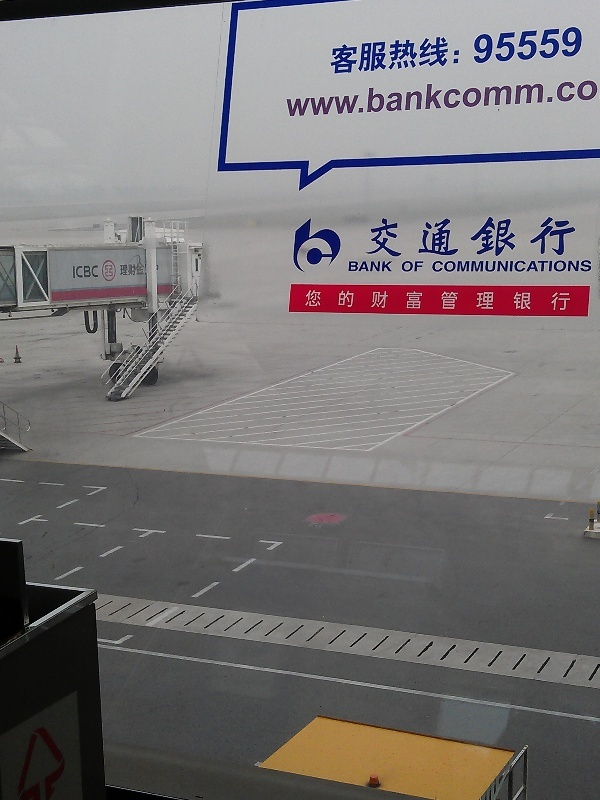text: (337, 25, 352, 76), (353, 25, 368, 76), (369, 25, 384, 76), (385, 25, 400, 76), (401, 25, 416, 76), (417, 25, 432, 76), (433, 25, 448, 76), (449, 25, 464, 76), (465, 25, 480, 76), (481, 25, 496, 76), (497, 25, 512, 76), (513, 25, 528, 76), (529, 25, 544, 76), (545, 25, 560, 76), (561, 25, 576, 76), (289, 72, 304, 119), (305, 72, 320, 119), (321, 72, 336, 119), (337, 72, 352, 119), (353, 72, 368, 119), (369, 72, 384, 119), (385, 72, 400, 119), (401, 72, 416, 119), (417, 72, 432, 119), (433, 72, 448, 119), (449, 72, 464, 119), (465, 72, 480, 119), (481, 72, 496, 119), (497, 72, 512, 119), (513, 72, 528, 119), (529, 72, 544, 119), (545, 72, 560, 119), (561, 72, 576, 119), (577, 72, 592, 119), (369, 217, 384, 257), (385, 217, 400, 257), (401, 217, 416, 257), (417, 217, 432, 257), (433, 217, 448, 257), (449, 217, 464, 257), (465, 217, 480, 257), (481, 217, 496, 257), (497, 217, 512, 257), (513, 217, 528, 257), (529, 217, 544, 257), (545, 217, 560, 257), (561, 217, 576, 257), (577, 25, 584, 76), (305, 289, 320, 311), (321, 289, 336, 311), (337, 289, 352, 311), (353, 289, 368, 311), (369, 289, 384, 311), (385, 289, 400, 311), (401, 289, 416, 311), (417, 289, 432, 311), (433, 289, 448, 311), (449, 289, 464, 311), (465, 289, 480, 311), (481, 289, 496, 311), (497, 289, 512, 311), (513, 289, 528, 311), (529, 289, 544, 311), (545, 289, 560, 311), (330, 25, 336, 76), (593, 72, 599, 119), (561, 289, 572, 311), (81, 264, 96, 279), (129, 261, 144, 276), (577, 260, 593, 273), (433, 260, 448, 273), (449, 260, 464, 273), (465, 260, 480, 273), (481, 260, 496, 273), (497, 260, 512, 273), (513, 260, 528, 273), (529, 260, 544, 273), (545, 260, 560, 273), (561, 260, 576, 273), (353, 260, 368, 273), (369, 260, 384, 273), (402, 261, 416, 273), (285, 72, 288, 119), (72, 264, 80, 279), (120, 261, 128, 276), (385, 260, 394, 273), (417, 261, 426, 273), (348, 260, 352, 273), (97, 264, 100, 279), (367, 217, 368, 257), (145, 261, 146, 276)
